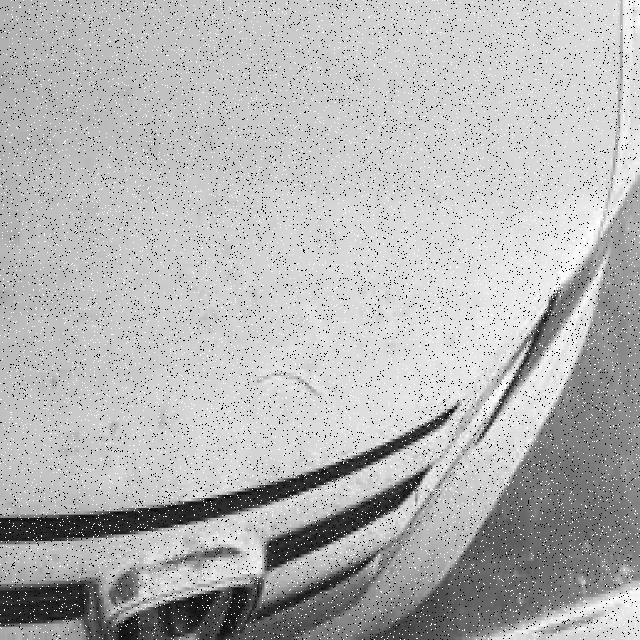bonnet-dent: (0, 13, 574, 588)
